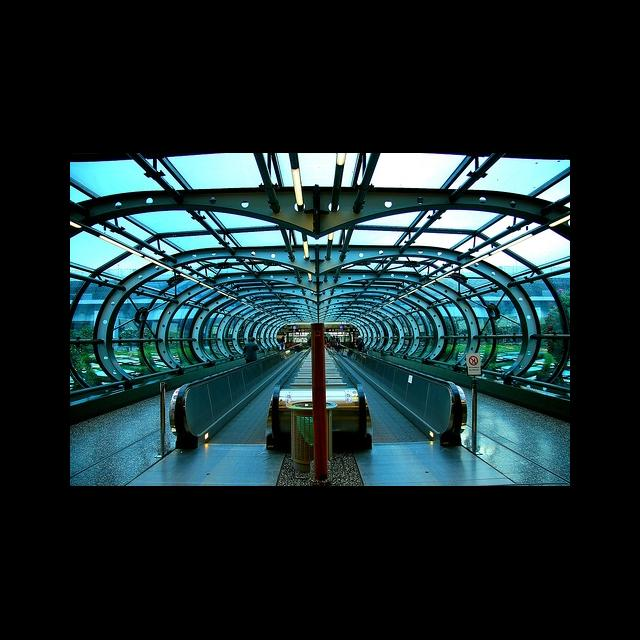NO-Hardhat: (248, 338, 255, 343), (332, 337, 334, 340), (358, 337, 361, 339), (281, 341, 283, 343)
NO-Safety Vest: (244, 343, 256, 359), (356, 339, 362, 346), (331, 340, 336, 347), (280, 343, 284, 347)
Person: (243, 338, 259, 364), (356, 336, 364, 352), (330, 337, 336, 350), (280, 341, 284, 350)
